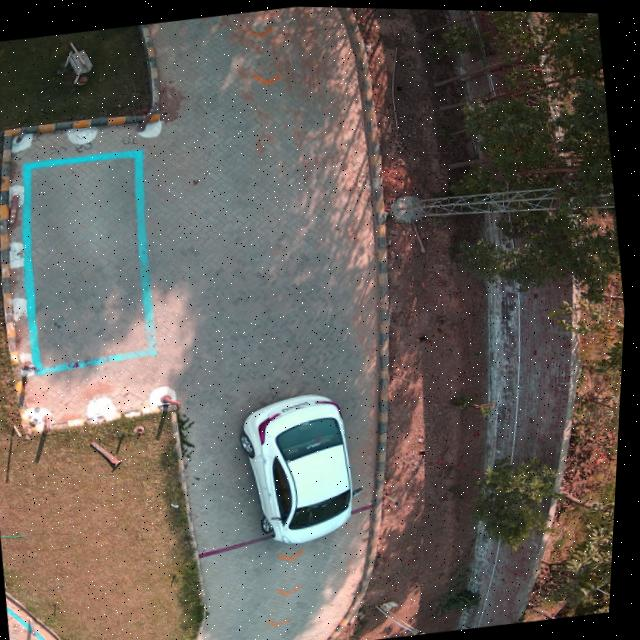car: (242, 390, 359, 543)
